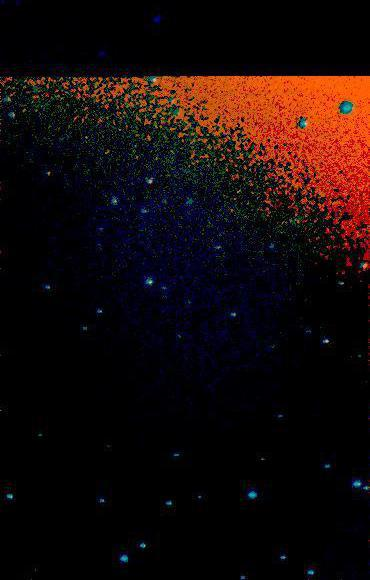star: (247, 443, 277, 473)
